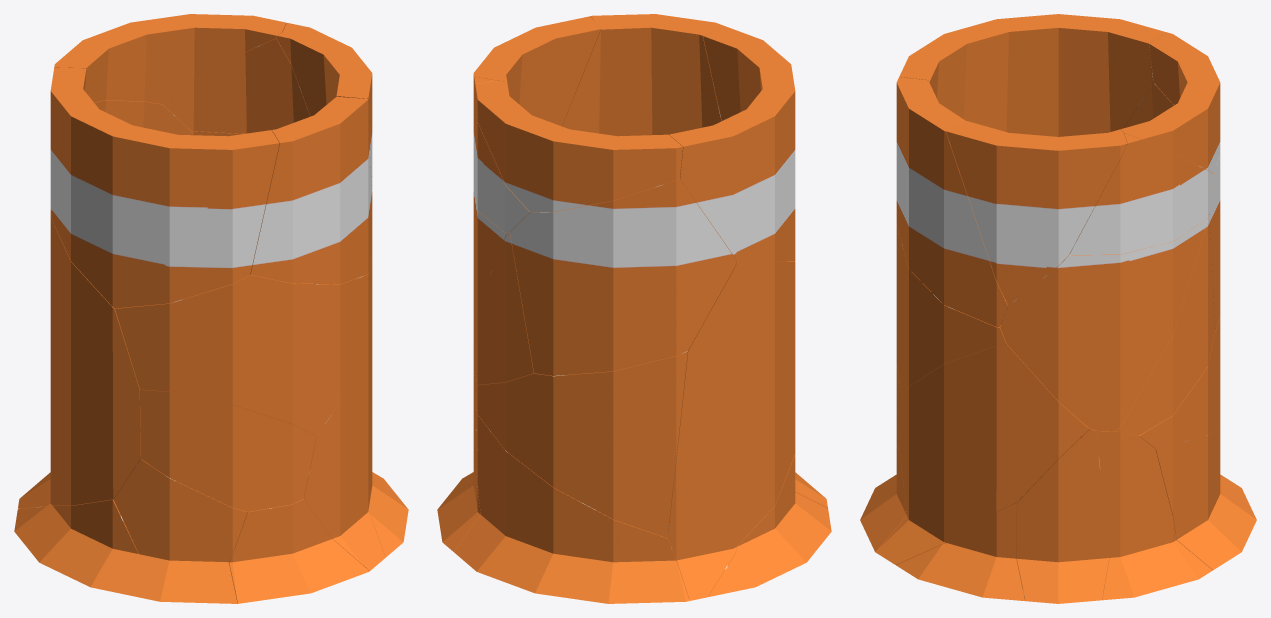
Rendered from cone3_pedacos.glb.
The picture shows the model from 3 angles, left to right: view 1: azimuth 30°, elevation 25°; view 2: azimuth 150°, elevation 25°; view 3: azimuth 270°, elevation 25°; orthographic projection.
Visible parts, largest first — view 1: Cylinder.002_cell.009, Cylinder.002_cell.007, Cylinder.002_cell.004, Cylinder.002_cell.012, Cylinder.002_cell.019, Cylinder.002_cell.005, Cylinder.002_cell.001, Cylinder.002_cell.011, Cylinder.002_cell.003, Cylinder.002_cell.018, Cylinder.002_cell, Cylinder.002_cell.016 (+2 smaller); view 2: Cylinder.002_cell.013, Cylinder.002_cell.004, Cylinder.002_cell.014, Cylinder.002_cell.008, Cylinder.002_cell.009, Cylinder.002_cell.012, Cylinder.002_cell.001, Cylinder.002_cell.016, Cylinder.002_cell, Cylinder.002_cell.010, Cylinder.002_cell.018, Cylinder.002_cell.015 (+1 smaller); view 3: Cylinder.002_cell.011, Cylinder.002_cell.009, Cylinder.002_cell.017, Cylinder.002_cell.016, Cylinder.002_cell.012, Cylinder.002_cell.002, Cylinder.002_cell.015, Cylinder.002_cell.018, Cylinder.002_cell.008, Cylinder.002_cell.001, Cylinder.002_cell.010, Cylinder.002_cell.007 (+4 smaller).
Part boxes in pixels (x1,y1,x2,y2): Cylinder.002_cell.009: (50,67,279,308); Cylinder.002_cell.007: (115,256,372,435); Cylinder.002_cell.004: (18,221,140,508); Cylinder.002_cell.012: (250,96,372,284); Cylinder.002_cell.019: (140,390,316,511); Cylinder.002_cell.005: (113,459,247,603); Cylinder.002_cell.001: (54,14,285,104); Cylinder.002_cell.011: (304,276,385,570); Cylinder.002_cell.003: (229,499,369,603); Cylinder.002_cell.018: (163,23,310,133); Cylinder.002_cell: (14,499,139,597); Cylinder.002_cell.016: (276,26,372,203); Cylinder.002_cell.013: (510,179,736,375); Cylinder.002_cell.004: (667,261,795,600); Cylinder.002_cell.014: (475,351,687,537); Cylinder.002_cell.008: (454,405,689,603); Cylinder.002_cell.009: (669,26,795,262); Cylinder.002_cell.012: (562,14,725,136); Cylinder.002_cell.001: (475,81,682,212); Cylinder.002_cell.016: (473,16,600,126); Cylinder.002_cell: (707,454,831,596); Cylinder.002_cell.010: (473,233,533,384); Cylinder.002_cell.018: (473,76,529,233); Cylinder.002_cell.015: (437,363,480,551); Cylinder.002_cell.011: (876,344,1089,564); Cylinder.002_cell.009: (899,14,1166,136); Cylinder.002_cell.017: (1000,218,1208,431); Cylinder.002_cell.016: (946,121,1127,305); Cylinder.002_cell.012: (896,77,1008,327); Cylinder.002_cell.002: (1016,429,1109,603); Cylinder.002_cell.015: (1096,430,1212,600); Cylinder.002_cell.018: (1069,133,1214,255); Cylinder.002_cell.008: (1155,428,1256,569); Cylinder.002_cell.001: (1121,32,1220,173); Cylinder.002_cell.010: (1116,215,1215,435); Cylinder.002_cell.007: (896,225,1006,397).
Bounding box in the file's own units: 2.45 × 2.98 × 2.45.
1 material, 1 textured.
